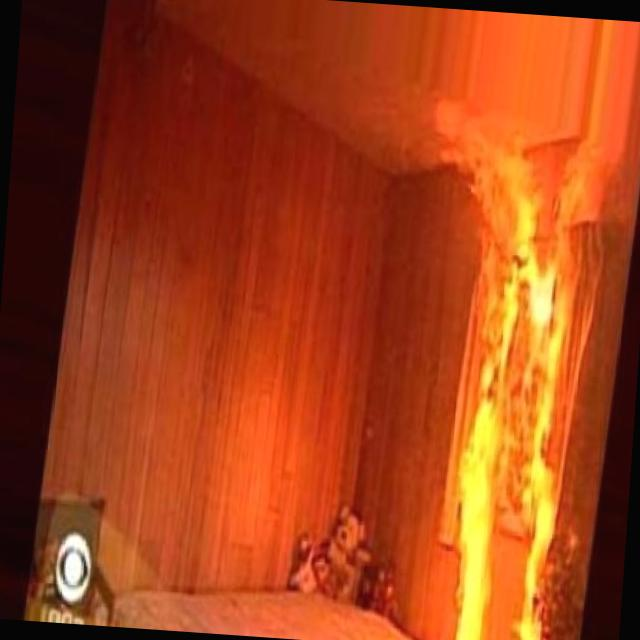fire: (393, 19, 640, 640)
